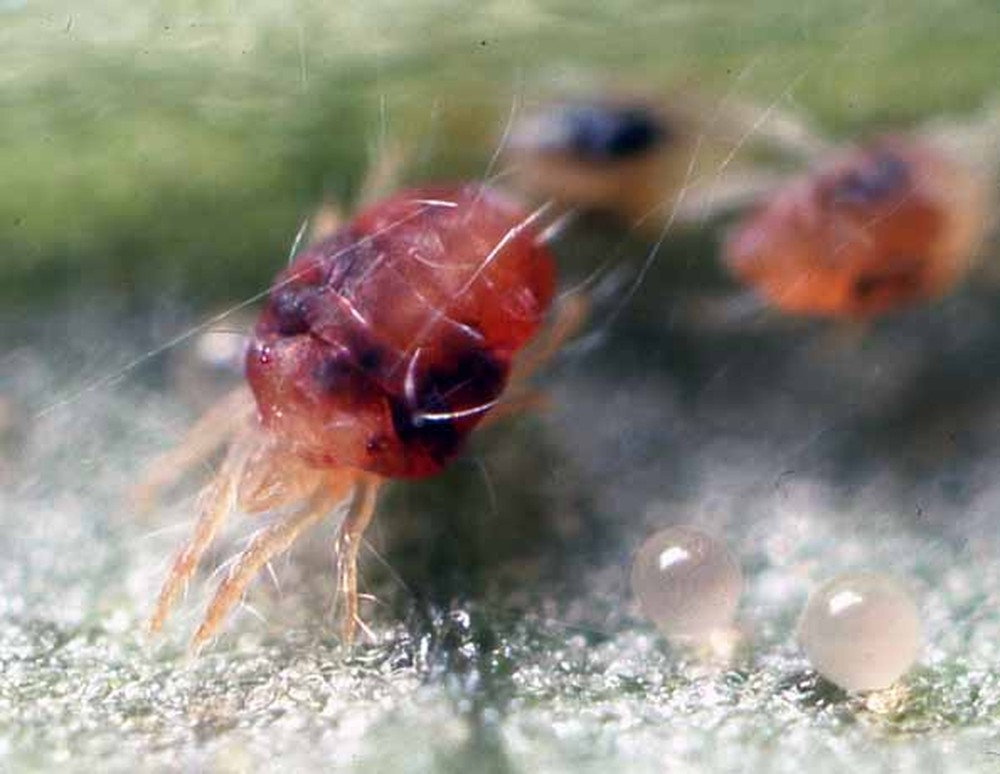Aracnido Rojo: (143, 132, 615, 669)
